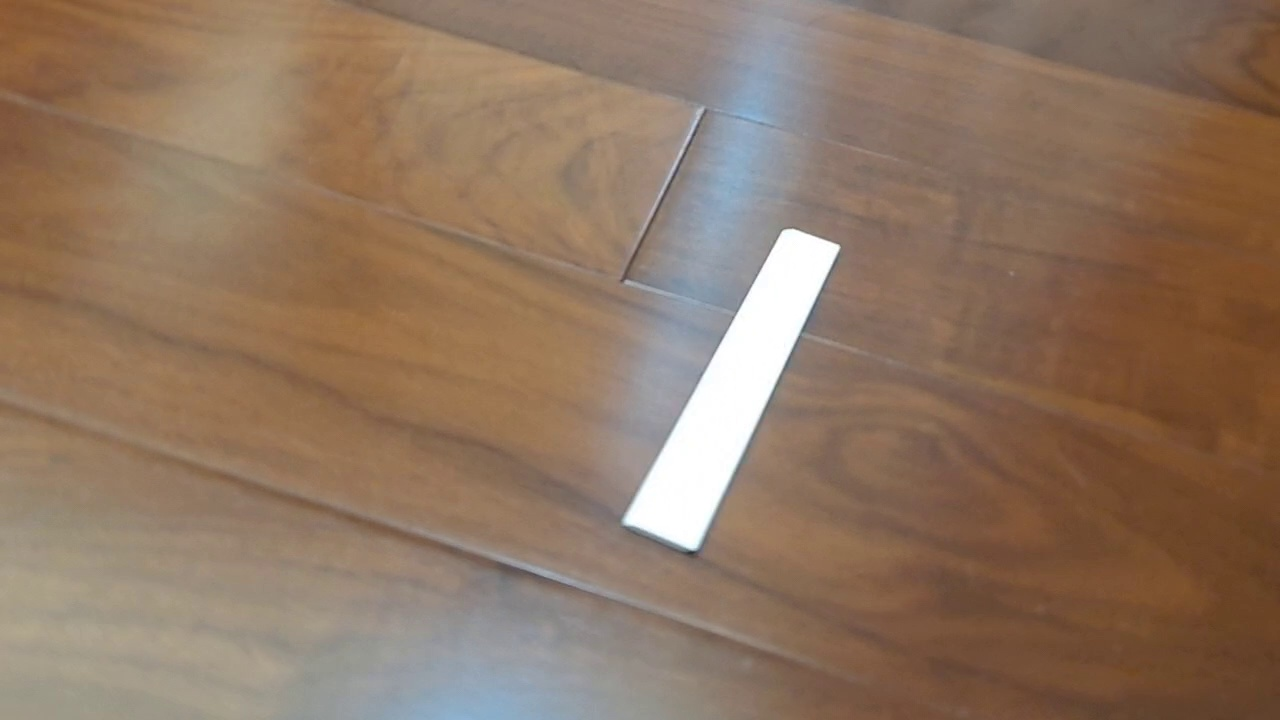ruler: (619, 226, 843, 555)
